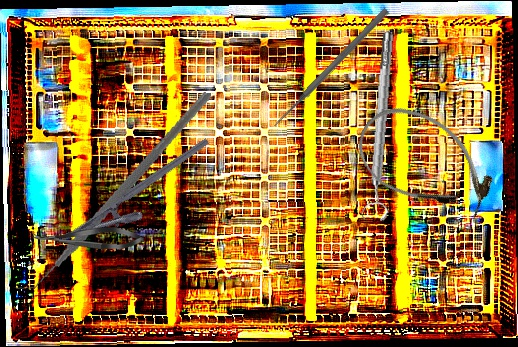Cannula: (343, 89, 508, 236)
Chopper: (11, 65, 211, 316)
Fixation Ring: (358, 31, 405, 222)
Micro Scissor: (31, 226, 145, 250)
Needle Holder: (59, 137, 223, 263)
Pusher: (270, 6, 391, 130)
